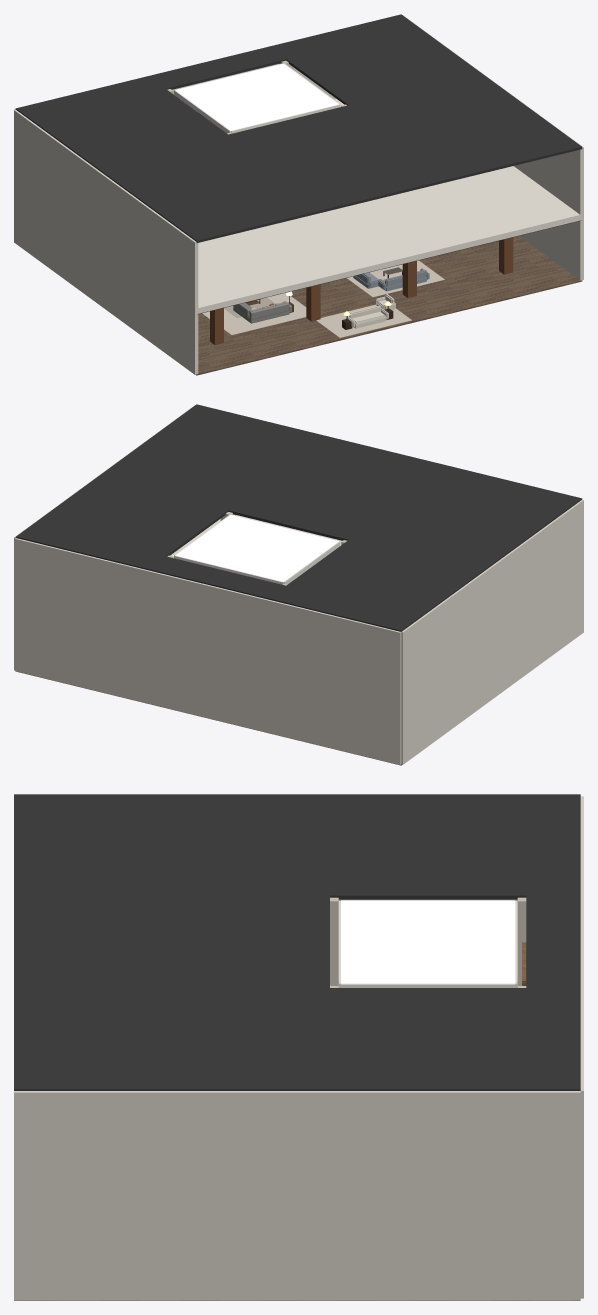
The model's file is rc-willey.glb.
3 renders of one model, top to bottom at view 1: azimuth 30°, elevation 25°; view 2: azimuth 150°, elevation 25°; view 3: azimuth 270°, elevation 25°, orthographic. The views are drawn at different scales.
Parts seen in each view (by area): view 1: Ceiling_Back, Wall_Back, UpperSlab_Back, Floor_Aisle, Skylight_Glow, Disp_A_Pad, AtriumColumnCap_0, Atrium_Table_Top, Disp_B_Sofas, Spot_Sectional, Disp_A_Sectional; view 2: Wall_Back, Ceiling_Back, Skylight_Glow, Atrium_Table_Top; view 3: Ceiling_Back, Wall_Back, Skylight_Glow, AtriumColumn_0, Atrium_Table_Top.
Part boxes in pixels (bbox=[...]): Ceiling_Back: bbox=[15, 14, 582, 314]; Wall_Back: bbox=[14, 15, 583, 374]; UpperSlab_Back: bbox=[196, 99, 582, 313]; Floor_Aisle: bbox=[195, 236, 582, 375]; Skylight_Glow: bbox=[175, 63, 338, 130]; Disp_A_Pad: bbox=[202, 260, 444, 337]; AtriumColumnCap_0: bbox=[210, 237, 513, 345]; Atrium_Table_Top: bbox=[174, 63, 340, 133]; Disp_B_Sofas: bbox=[346, 294, 395, 328]; Spot_Sectional: bbox=[233, 301, 291, 323]; Disp_A_Sectional: bbox=[353, 268, 429, 291]; Wall_Back: bbox=[14, 405, 583, 764]; Ceiling_Back: bbox=[15, 404, 582, 631]; Skylight_Glow: bbox=[175, 515, 338, 581]; Atrium_Table_Top: bbox=[174, 514, 340, 584]; Ceiling_Back: bbox=[14, 794, 580, 1090]; Wall_Back: bbox=[14, 796, 583, 1299]; Skylight_Glow: bbox=[341, 901, 515, 983]; AtriumColumn_0: bbox=[330, 897, 526, 987]; Atrium_Table_Top: bbox=[339, 900, 517, 987].
Bounding box in the file's own units: 32.3 × 10.7 × 26.15.
48 materials, 2 textured.
